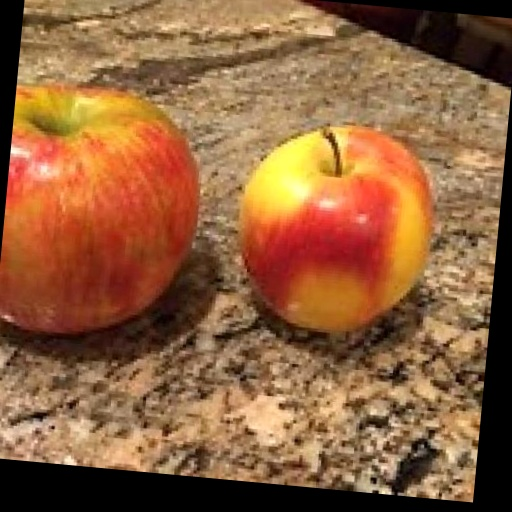fruit: (0, 86, 198, 333), (239, 127, 432, 332)
